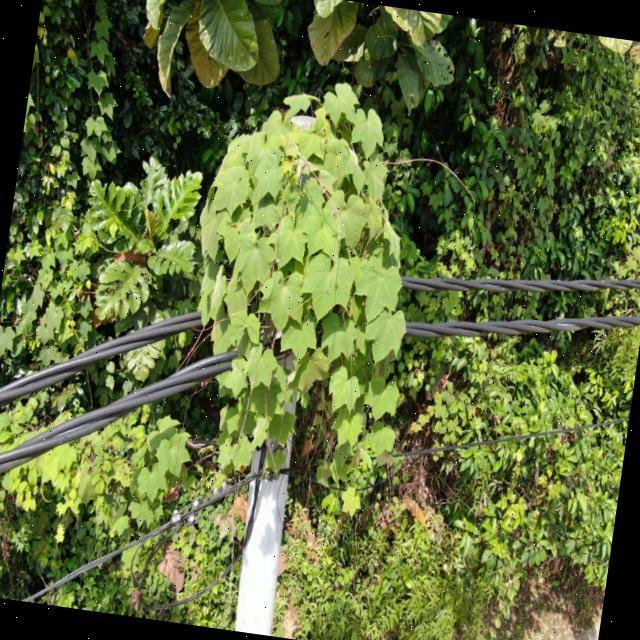critical vegetation: (143, 58, 450, 498)
